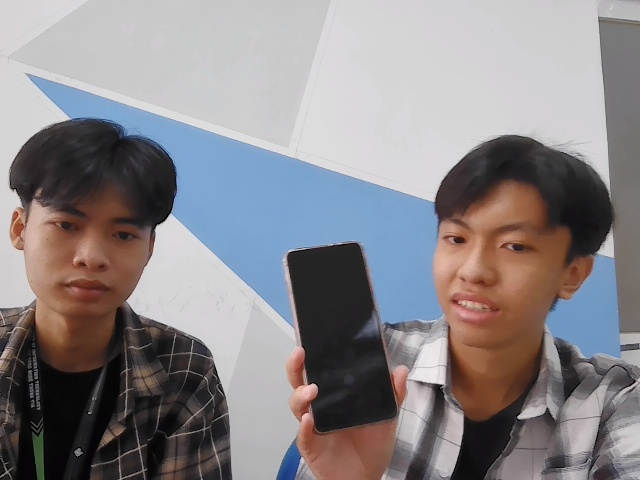human: (421, 119, 610, 338), (16, 114, 171, 324)
phone: (277, 241, 406, 432)
